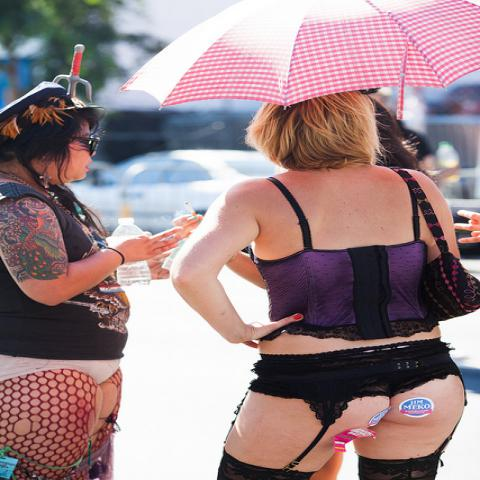car: (60, 148, 284, 237), (434, 167, 479, 255), (398, 123, 459, 178)
